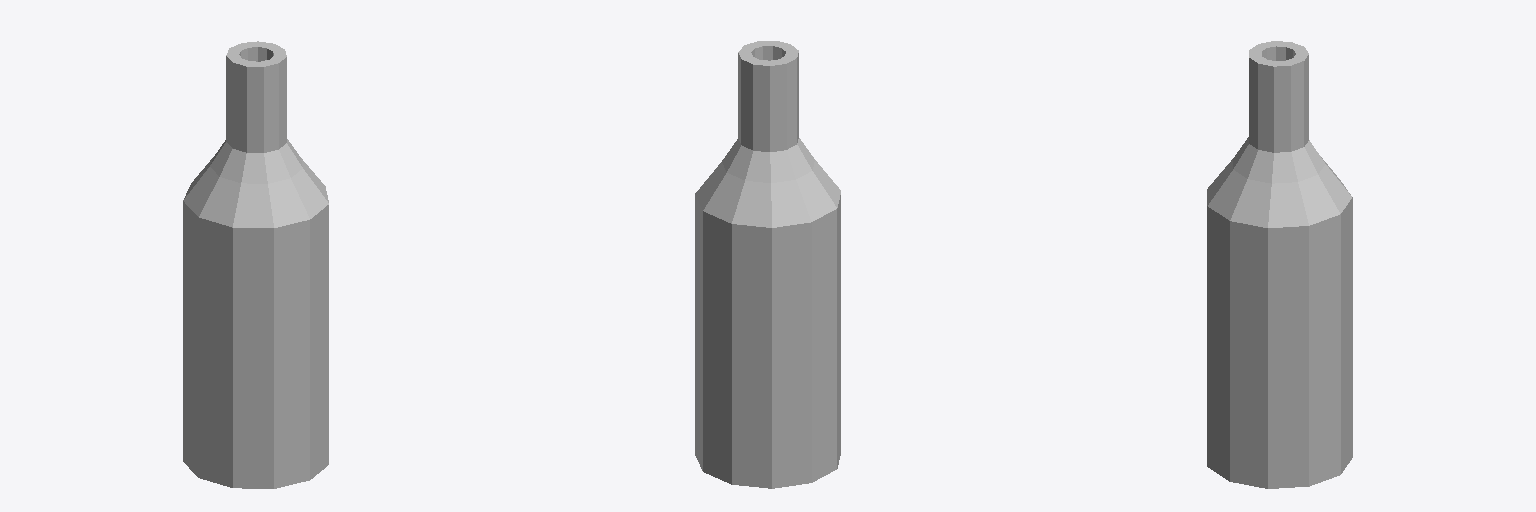
File: bottle.obj
The picture shows the model from 3 angles: view 1: azimuth 30°, elevation 25°; view 2: azimuth 150°, elevation 25°; view 3: azimuth 270°, elevation 25°; orthographic projection.
Parts seen in each view (by area): view 1: Cylinder; view 2: Cylinder; view 3: Cylinder.
Boxes of the visible parts, x1,y1,x2,y2 form: Cylinder: [183, 41, 328, 488]; Cylinder: [695, 41, 840, 488]; Cylinder: [1207, 41, 1352, 488].
Bounding box in the file's own units: 0.0973 × 0.2963 × 0.0963.